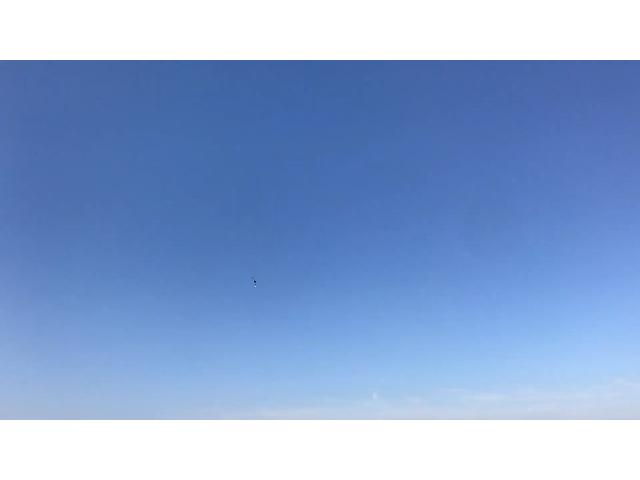Anti-Drone: (245, 274, 263, 289)
